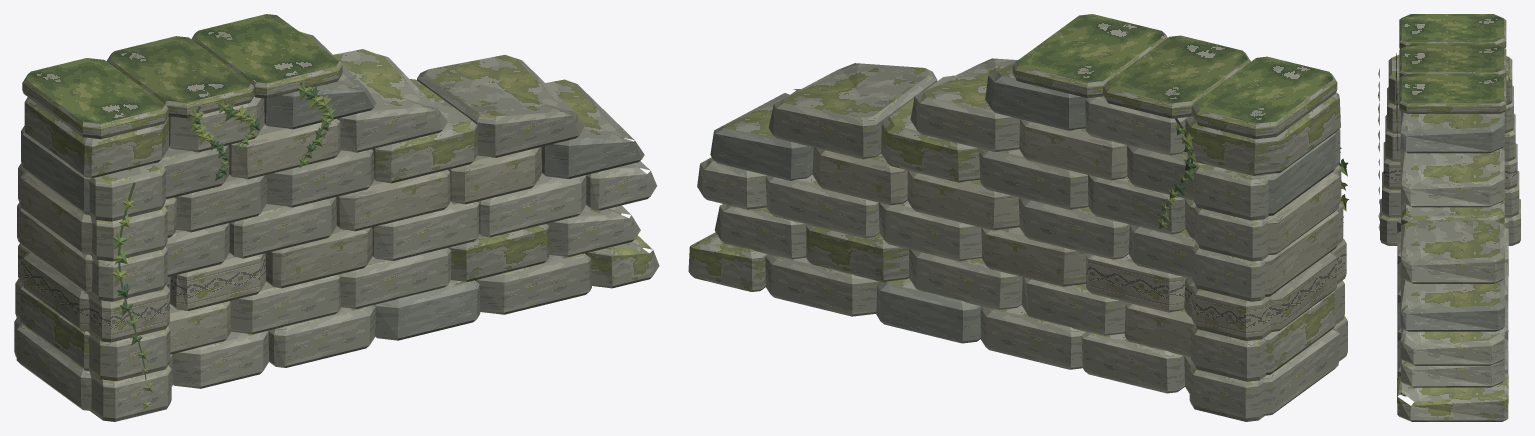
The model's file is ruin_wall_3m.glb.
3 renders of one model, left to right at view 1: azimuth 30°, elevation 25°; view 2: azimuth 150°, elevation 25°; view 3: azimuth 270°, elevation 25°, orthographic. The views are drawn at different scales.
Parts seen in each view (by area): view 1: ruin_wall_3m; view 2: ruin_wall_3m; view 3: ruin_wall_3m.
Part boxes in pixels (box(x1,y1,x2,y2)): ruin_wall_3m: box(14, 14, 659, 421); ruin_wall_3m: box(688, 14, 1348, 421); ruin_wall_3m: box(1378, 14, 1520, 421).
Bounding box in the file's own units: 6.33 × 3 × 1.88.
2 materials, 1 textured.
